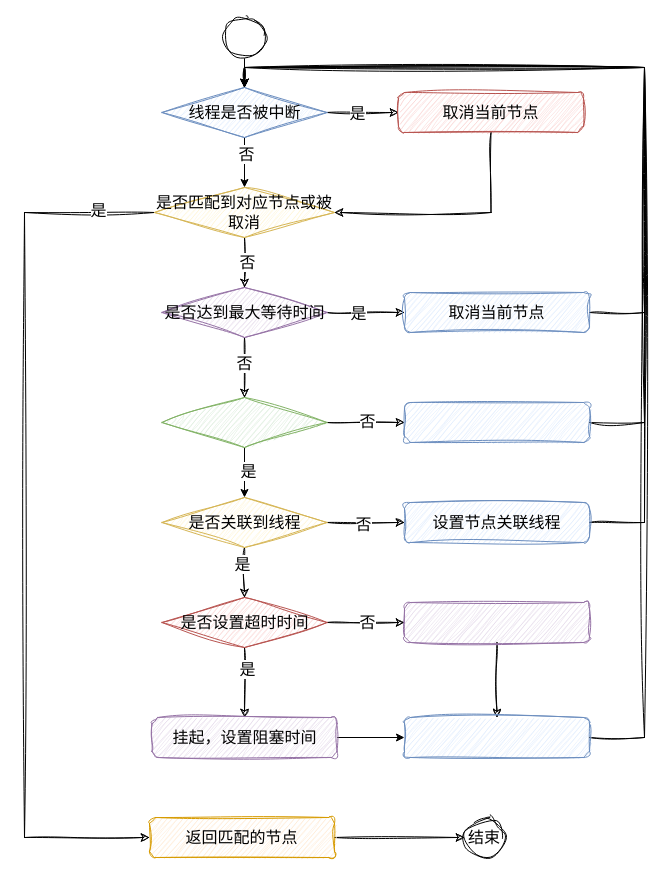
This 670x875 diagram has some shape labels left out. Here are the shapes that lost their labels. From the top down, the centre of each, then its label:
the point at 244,37: 开始
the point at 244,422: 是否达到最大自旋次数
the point at 497,422: 自旋次数 - 1
the point at 497,622: 挂起，不设置阻塞时间
the point at 497,737: 被唤醒或被中断
